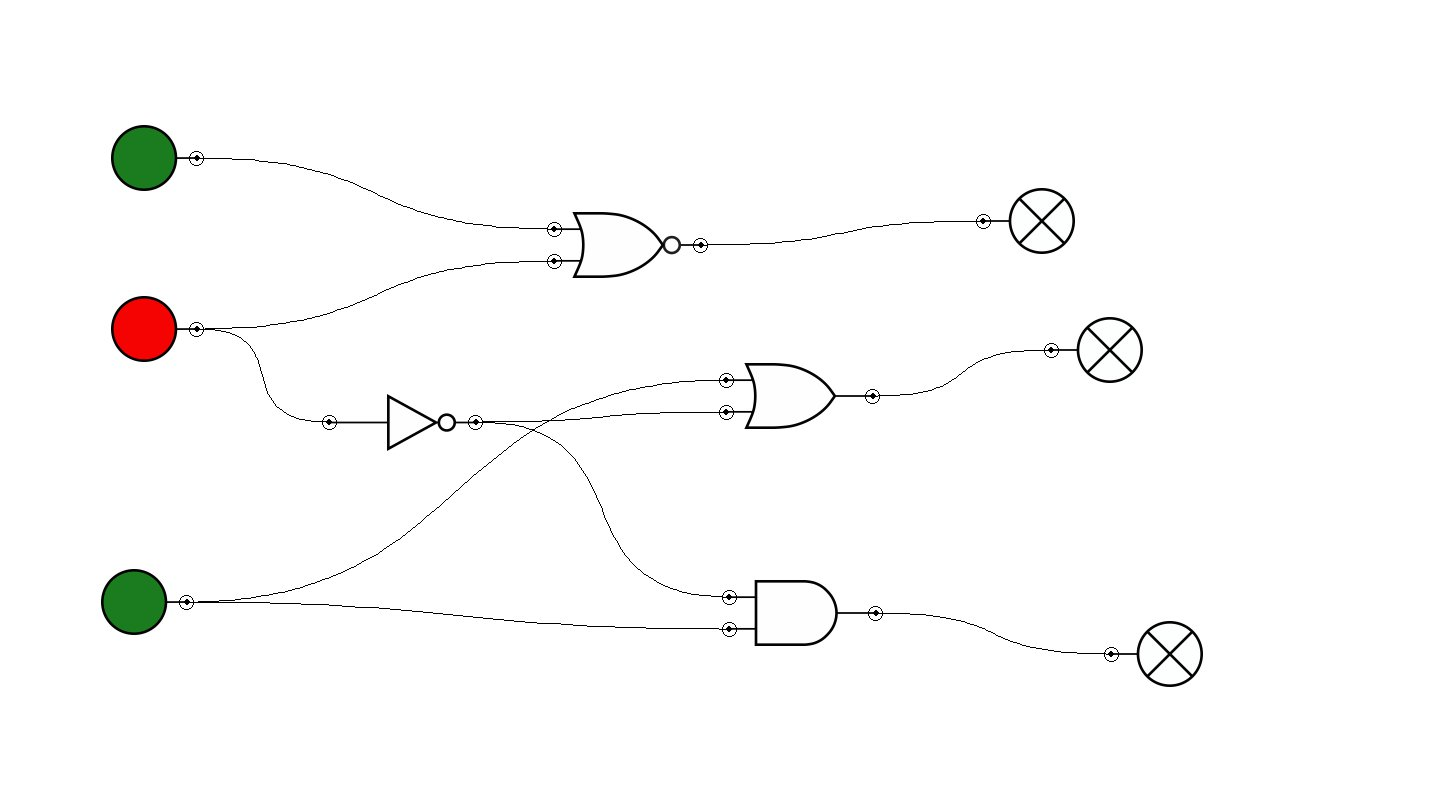and: (722, 580, 883, 646)
bulb: (1104, 621, 1203, 687), (976, 188, 1075, 254), (1044, 317, 1143, 383)
nor: (547, 212, 708, 278)
not: (322, 394, 483, 451)
or: (719, 363, 880, 429)
switch_False: (111, 296, 204, 362)
switch_True: (101, 569, 194, 635), (111, 125, 204, 191)
